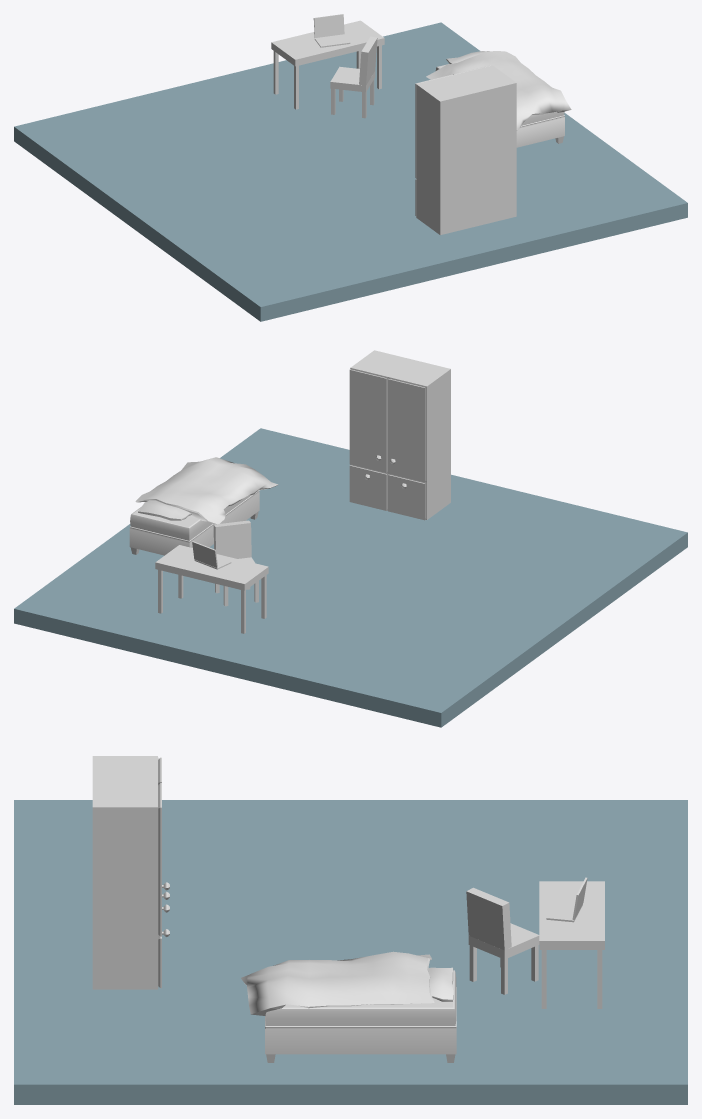
File: BedroomProps.fbx
The picture shows the model from 3 angles, top to bottom: view 1: azimuth 30°, elevation 25°; view 2: azimuth 150°, elevation 25°; view 3: azimuth 270°, elevation 25°; orthographic projection. The views are drawn at different scales.
Visible parts, largest first — view 1: BedroomFloor, Closet, Blanket, Desk, BedBase, Chair, ChairBack, LaptopScreen; view 2: BedroomFloor, Closet, Blanket, Desk, BedBase, Mattres, ChairBack, Pillow; view 3: BedroomFloor, Closet, Blanket, BedBase, Mattres, Desk, ChairBack, Chair, Pillow.
Part boxes in pixels (<box>): BedroomFloor: <box>14,22,687,321</box>; Closet: <box>415,65,516,235</box>; Blanket: <box>426,51,571,130</box>; Desk: <box>271,20,384,66</box>; BedBase: <box>516,115,564,147</box>; Chair: <box>330,66,375,92</box>; ChairBack: <box>359,36,377,85</box>; LaptopScreen: <box>313,14,344,37</box>; BedroomFloor: <box>14,428,687,727</box>; Closet: <box>349,350,450,520</box>; Blanket: <box>135,457,278,524</box>; Desk: <box>155,545,268,590</box>; BedBase: <box>129,490,259,555</box>; Mattres: <box>130,495,251,540</box>; ChairBack: <box>213,520,251,558</box>; Pillow: <box>138,501,191,520</box>; BedroomFloor: <box>14,800,687,1104</box>; Closet: <box>92,756,161,989</box>; Blanket: <box>241,951,434,1015</box>; BedBase: <box>265,987,456,1062</box>; Mattres: <box>265,970,456,1025</box>; Desk: <box>539,881,604,949</box>; ChairBack: <box>466,887,511,950</box>; Chair: <box>468,923,539,959</box>; Pillow: <box>428,967,453,1001</box>.
Size of the model in its own units: 669 by 222 by 669.
